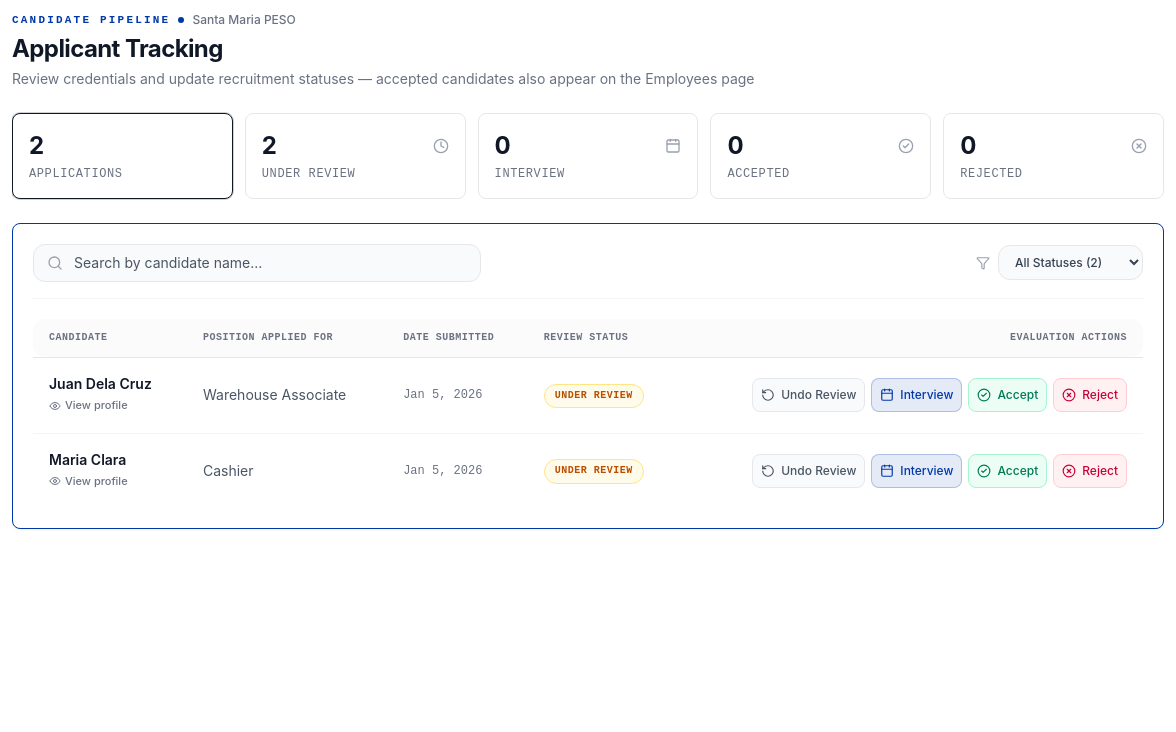
Test: Applicants — per-action error state (S5) › clears the error for an applicant after a successful retry
Step 1. Click the button titled "Reject candidate" in the row of "Warehouse Associate" → [1090, 395], box [1053, 378, 1127, 412]
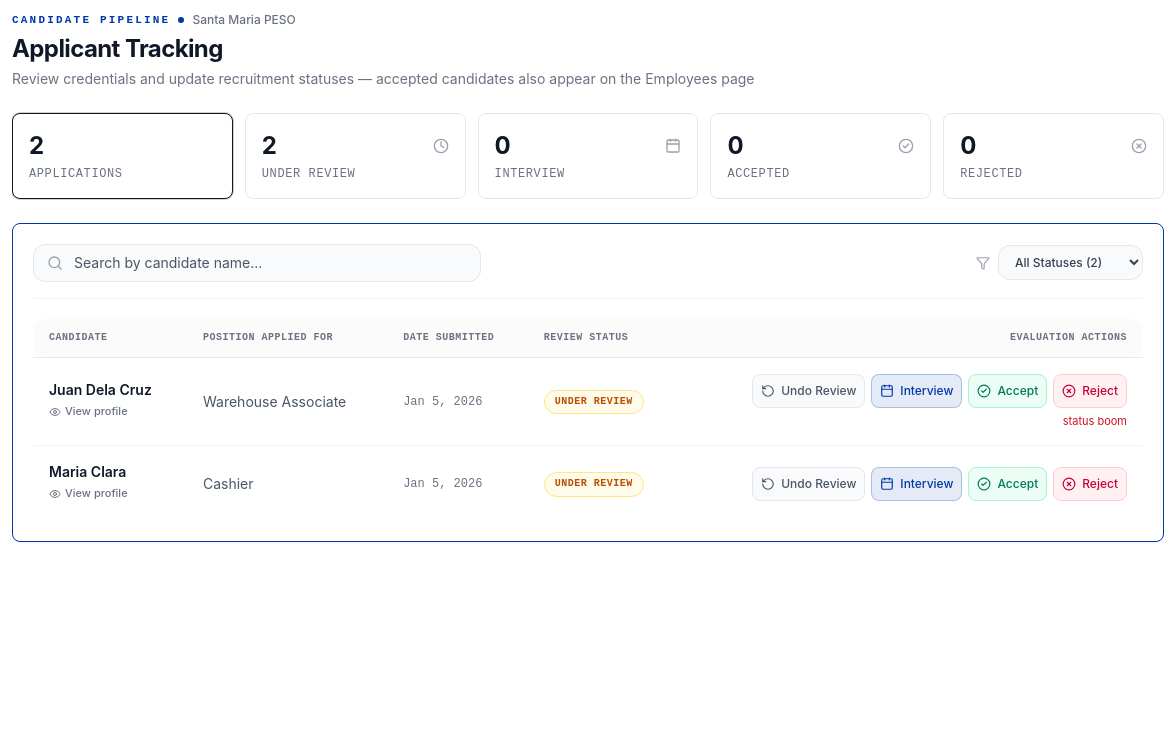
Expected: the message reads "status boom", [1063, 414, 1127, 428]
Step 2. Click the button titled "Reject candidate" in the row of "Warehouse Associate" → [1090, 391], box [1053, 374, 1127, 408]
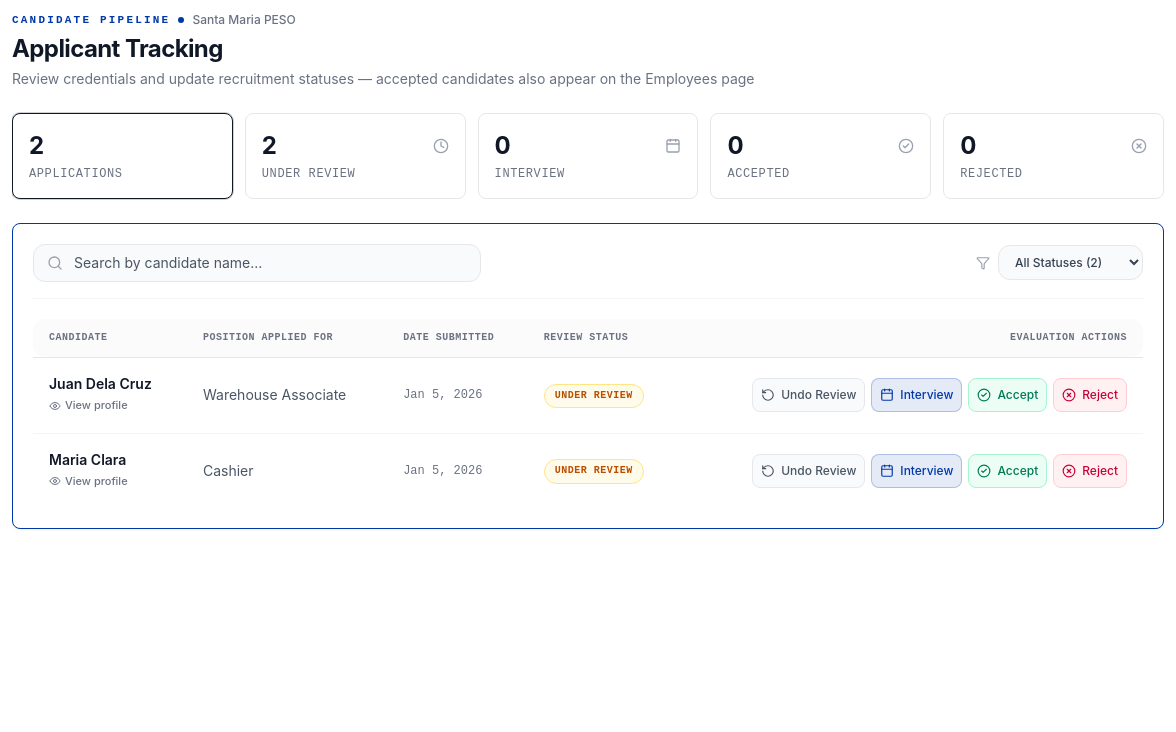
Expected: the text "Warehouse Associate" is shown, [187, 357, 387, 433]
Expected: the message "status boom" is gone
